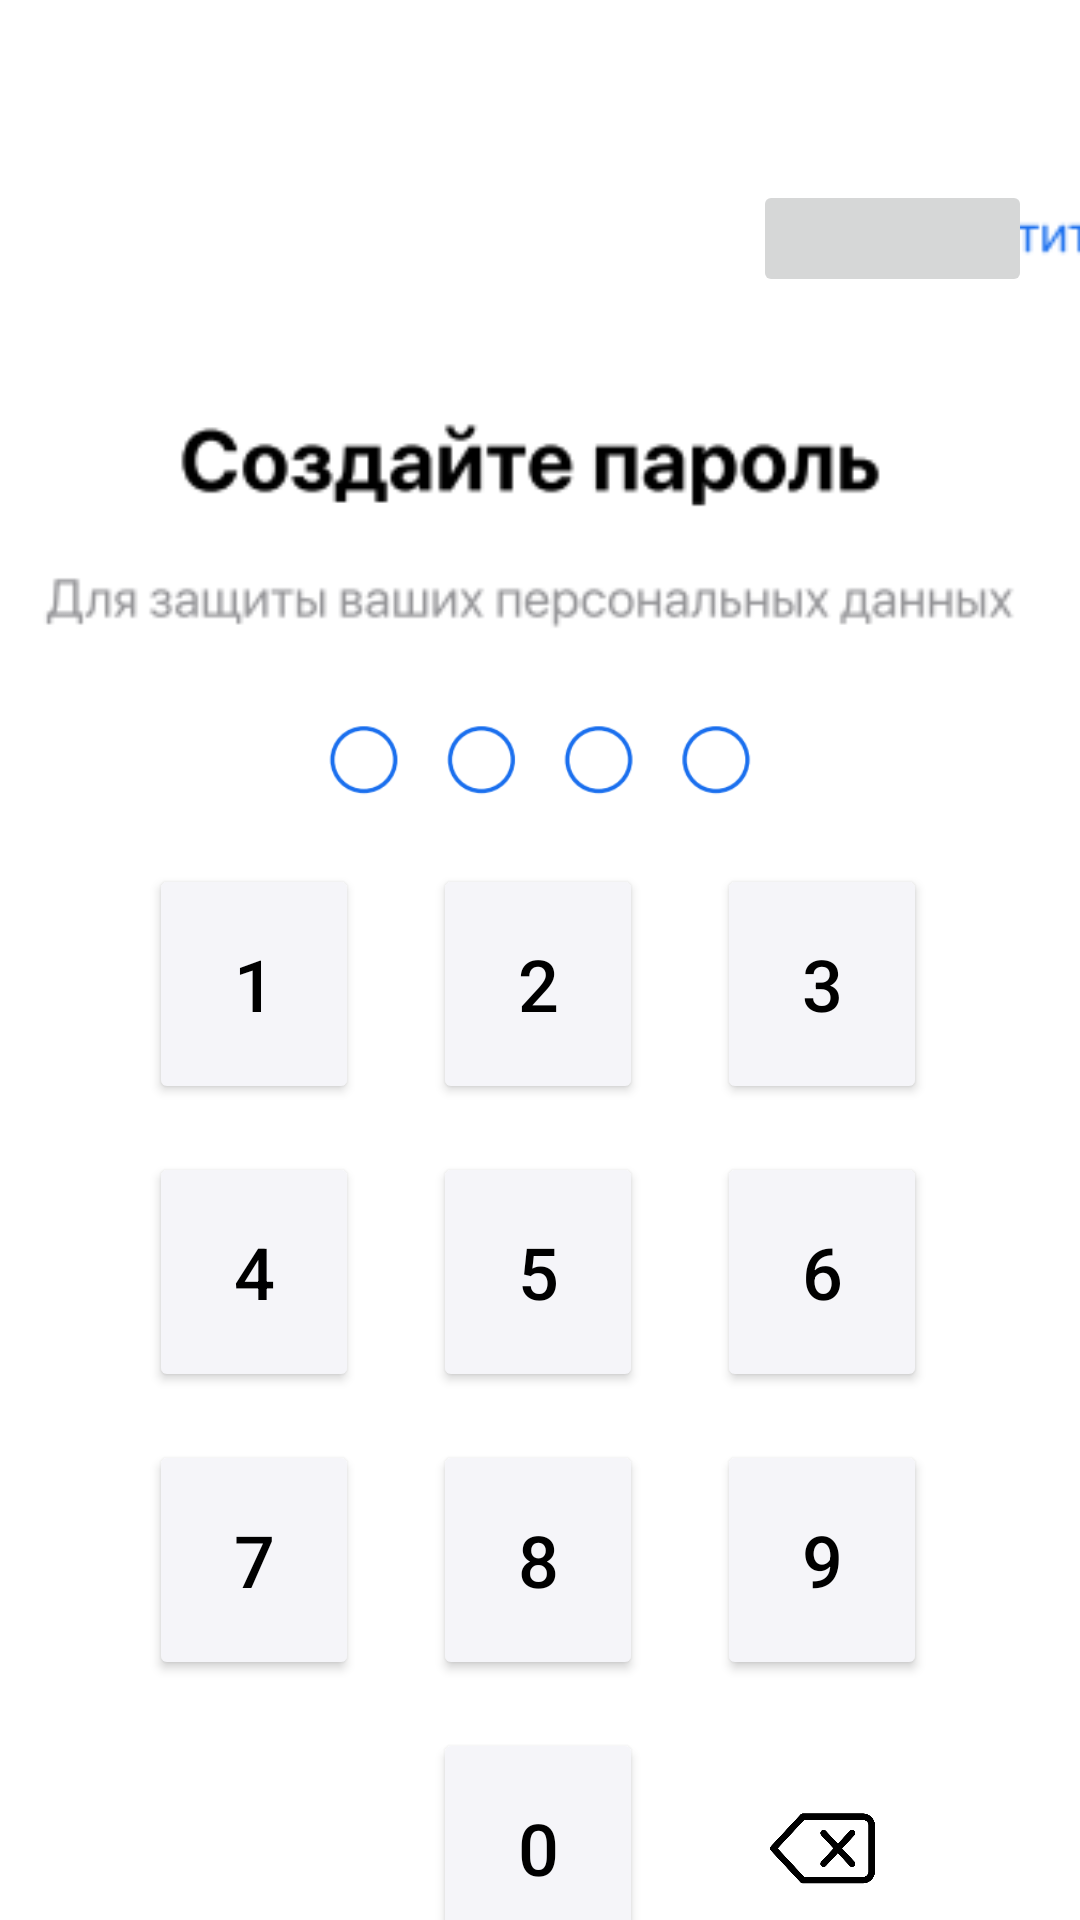

Named icons in this screenshot (1080px×1920px) and their centers, [x,y]:
delete: [822,1848]
